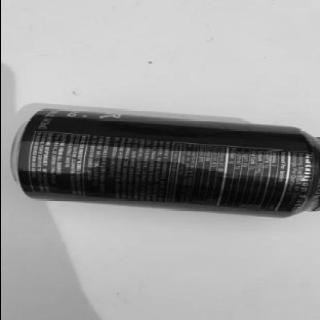alumunium_can: (9, 106, 319, 220)
